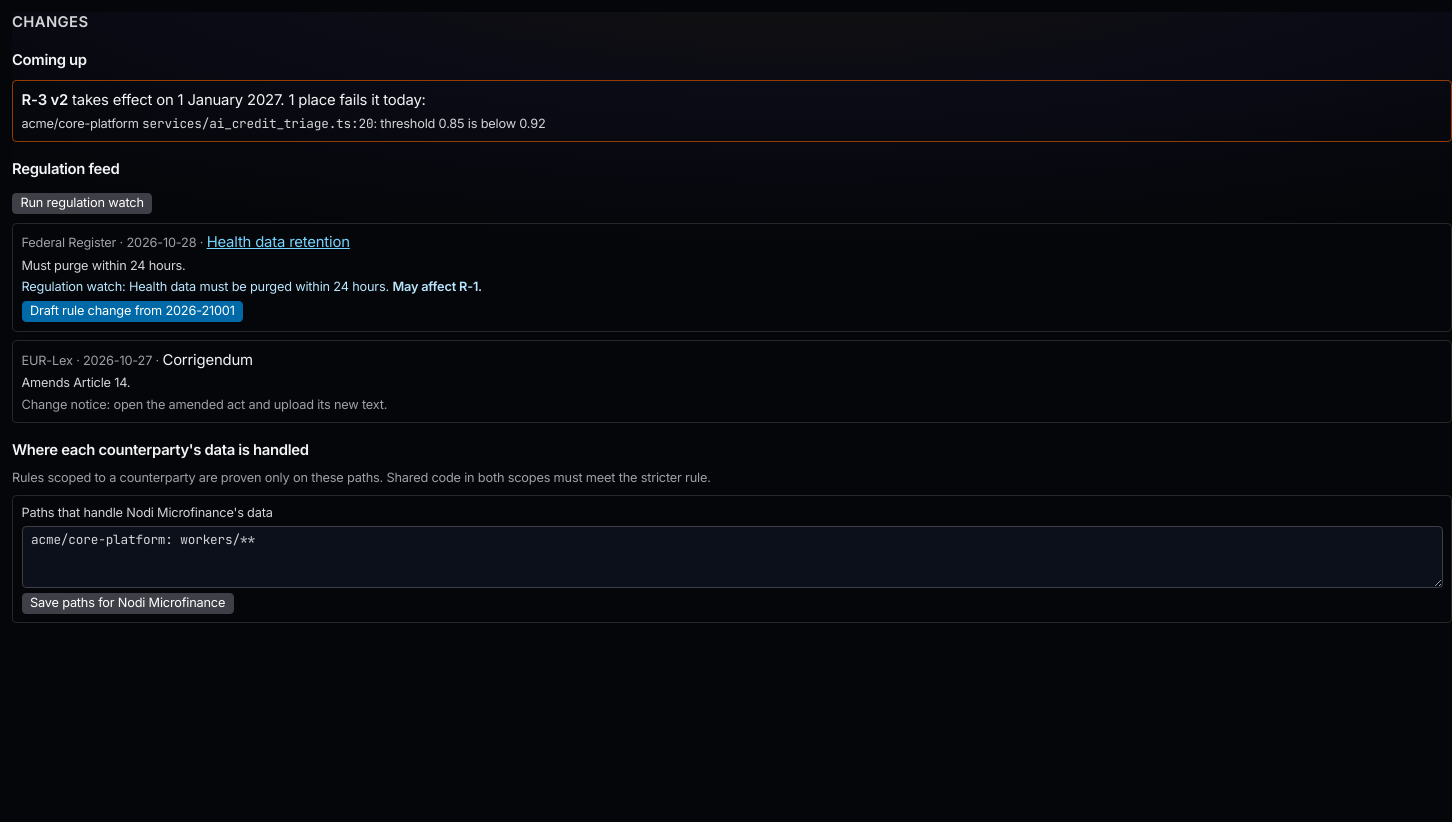
Test case: ChangesPanel › refuses a path line for a repository the workspace does not have
The image size is (1452, 822).
Type "other/repo: **" into the text box labelled "Paths that handle Nodi Microfinance's data".
click(732, 557); type("other/repo: **")  # box [22,526,1442,588]
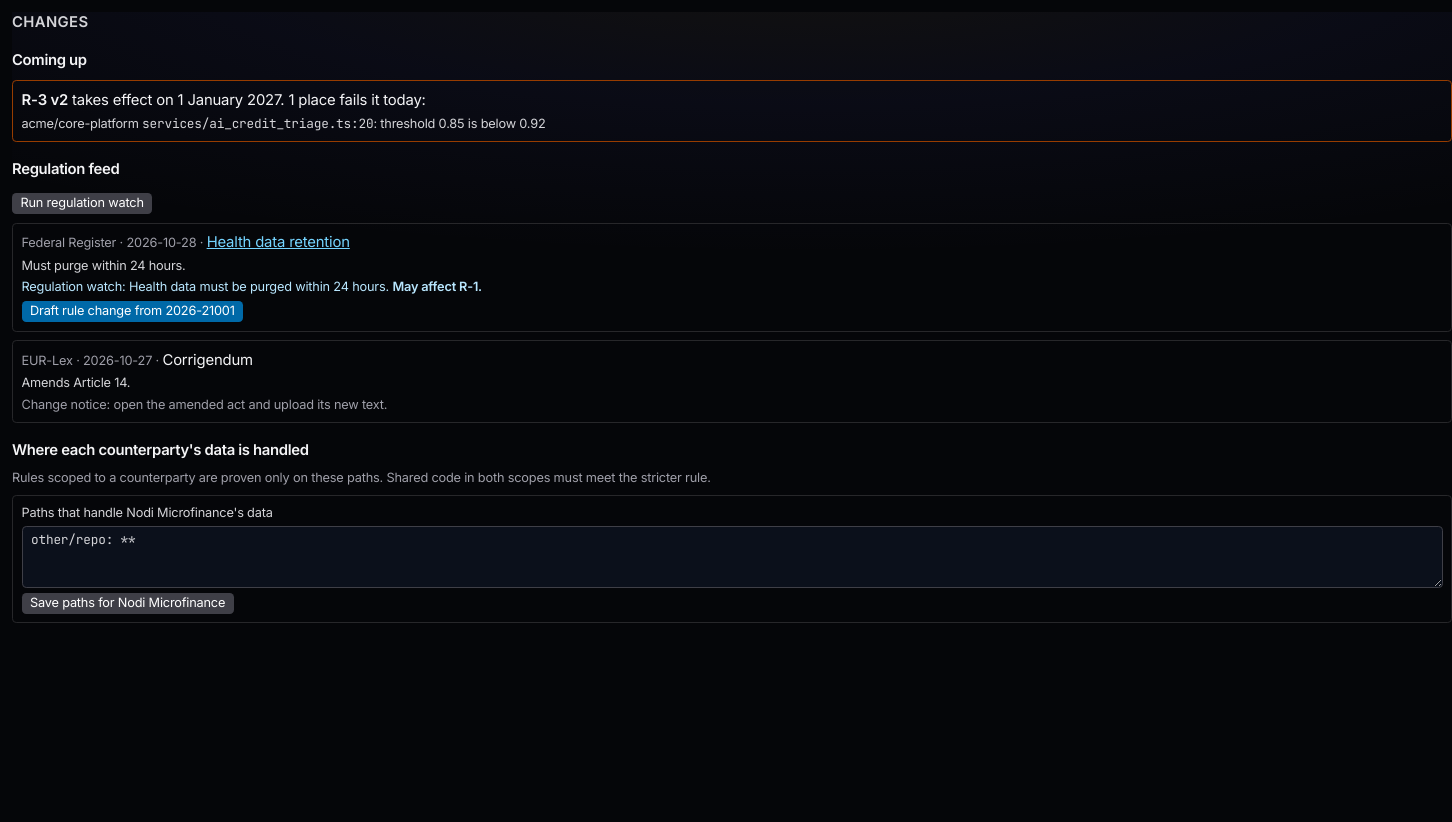
Click the button "Save paths for Nodi Microfinance".
click(128, 603)  # box [22,593,234,614]
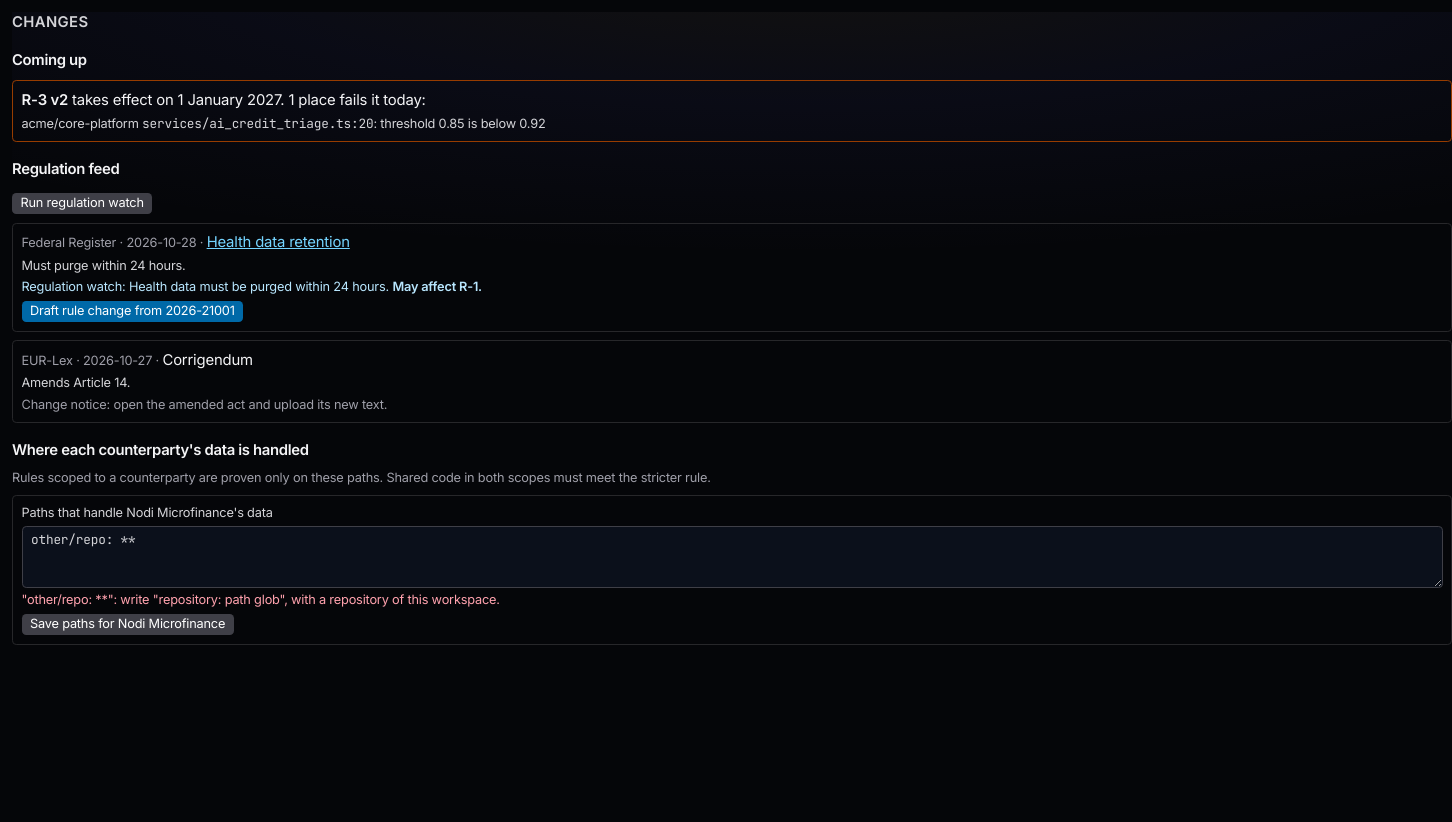
Result: the text "write \"repository: path glob\"" is shown at [22,592,500,607]
